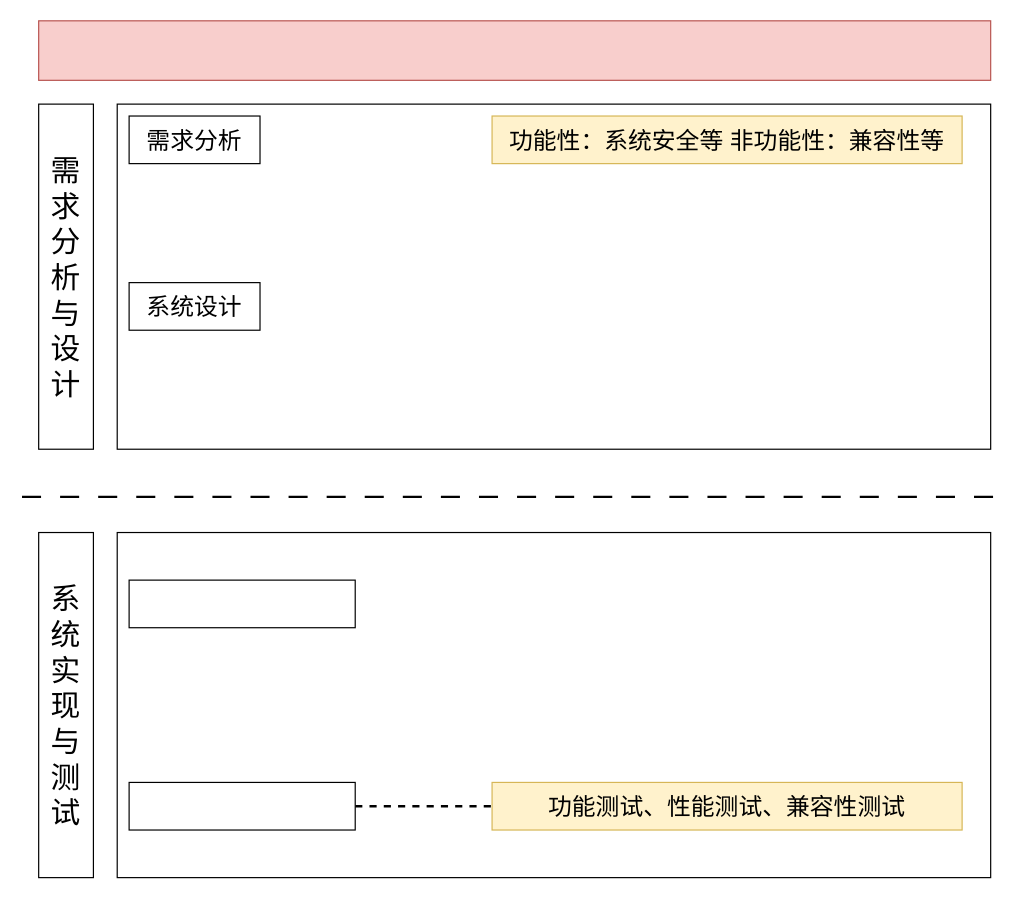
The diagram is 1032 pixels wide and 898 high, and some of its shapes have lost their labels. The centre of each missing label's shape, as x and y in pixels:
"无线自组网农机终端监控系统" goes at (514,50).
"系统实现关键技术" goes at (241,603).
"系统测试" goes at (241,805).
